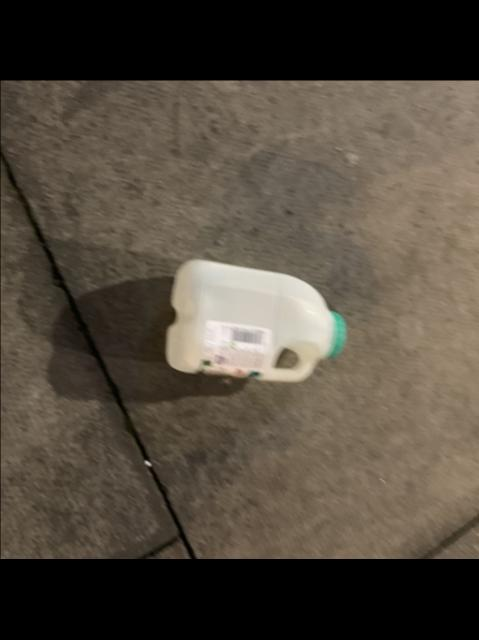plastic: (166, 261, 346, 382)
